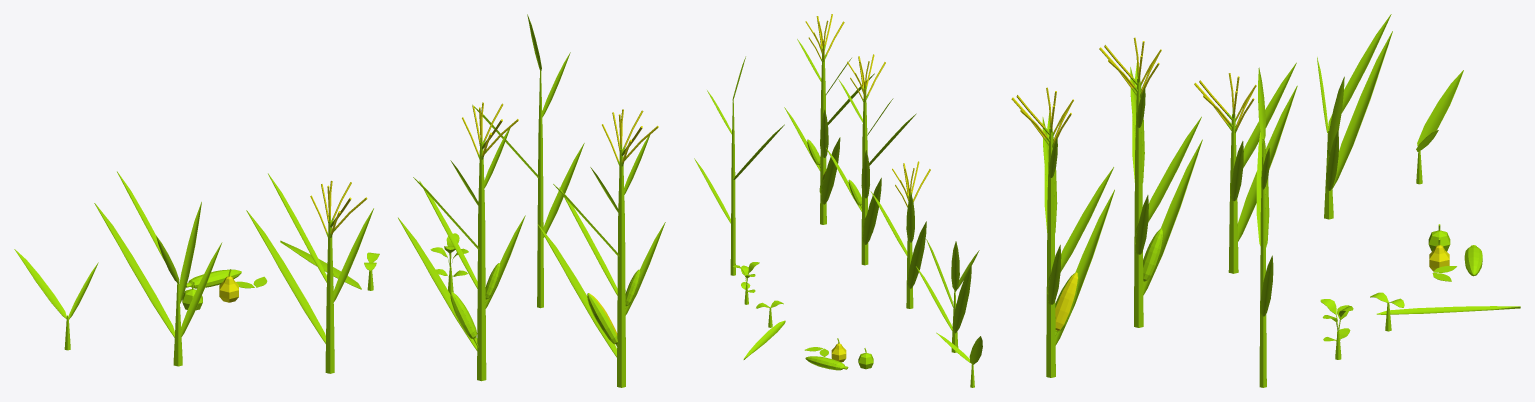
The model's file is uploads_files_3216836_1.fbx.
3 renders of one model, left to right at view 1: azimuth 30°, elevation 25°; view 2: azimuth 150°, elevation 25°; view 3: azimuth 270°, elevation 25°, orthographic. The views are drawn at different scales.
Visible parts, largest first — view 1: polySurface4, polySurface26, polySurface89, polySurface98, polySurface39, polySurface107, polySurface113; view 2: polySurface26, polySurface4, polySurface89, polySurface98, polySurface39, polySurface107, polySurface113, pCube3, pSphere4; view 3: polySurface4, polySurface26, polySurface89, polySurface98, polySurface39, polySurface107, pCube3, polySurface113.
Part boxes in pixels (x1,y1,x2,y2): polySurface4: [537, 109, 665, 387]; polySurface26: [398, 102, 525, 381]; polySurface89: [246, 173, 373, 373]; polySurface98: [94, 171, 222, 366]; polySurface39: [472, 14, 584, 308]; polySurface107: [14, 249, 98, 350]; polySurface113: [430, 233, 468, 294]; polySurface26: [826, 54, 916, 265]; polySurface4: [784, 14, 874, 224]; polySurface89: [870, 161, 930, 308]; polySurface98: [916, 239, 979, 352]; polySurface39: [694, 56, 784, 275]; polySurface107: [936, 332, 982, 387]; polySurface113: [733, 262, 759, 304]; pCube3: [743, 320, 785, 359]; pSphere4: [805, 357, 848, 370]; polySurface4: [1011, 87, 1114, 377]; polySurface26: [1099, 37, 1202, 327]; polySurface89: [1194, 62, 1297, 273]; polySurface98: [1317, 14, 1392, 219]; polySurface39: [1256, 67, 1273, 387]; polySurface107: [1416, 70, 1463, 184]; pCube3: [1376, 306, 1520, 314]; polySurface113: [1320, 299, 1353, 359].
Size of what is drawn, in the model's own units: 46.38 by 27.7 by 40.82.
